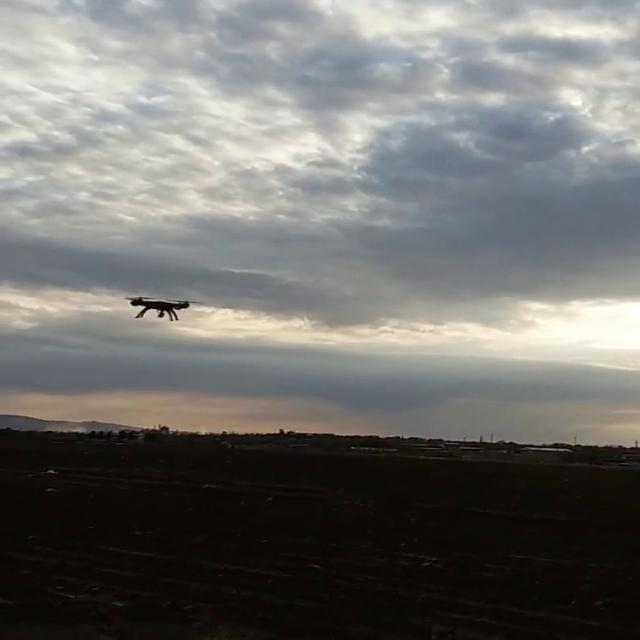drone: (120, 292, 200, 324)
